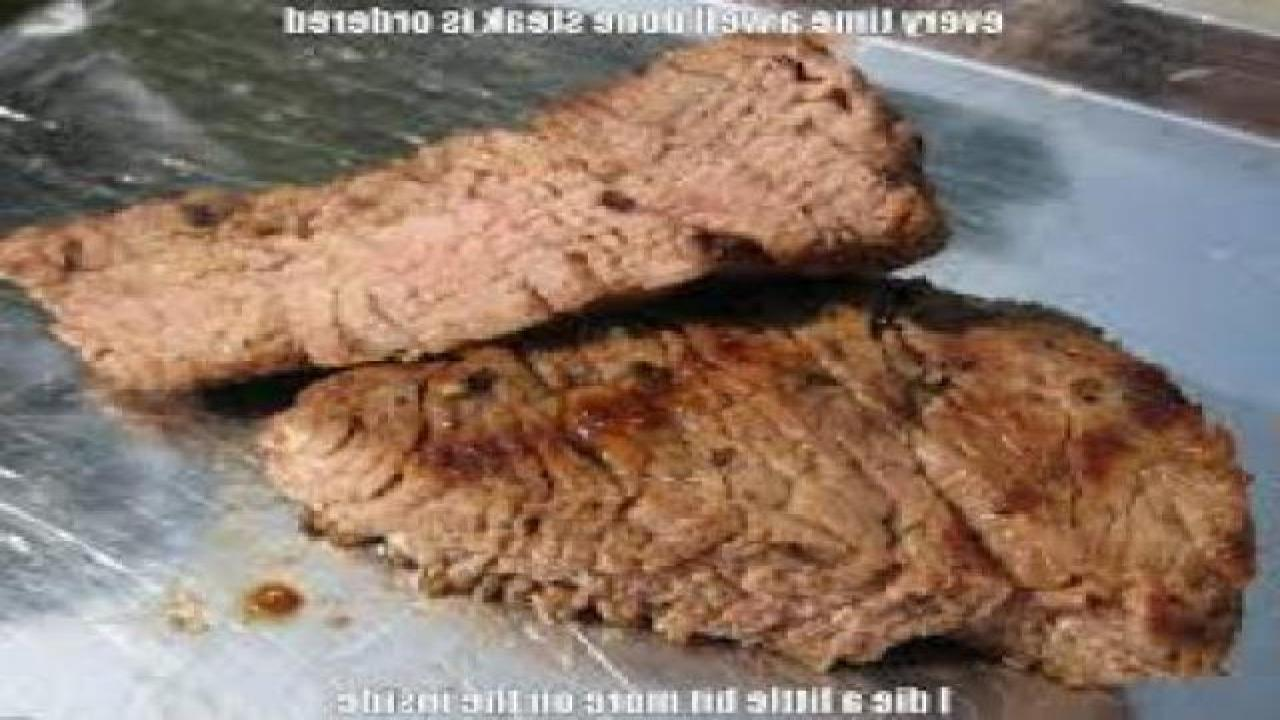done: (288, 266, 1232, 671), (45, 5, 966, 390)
